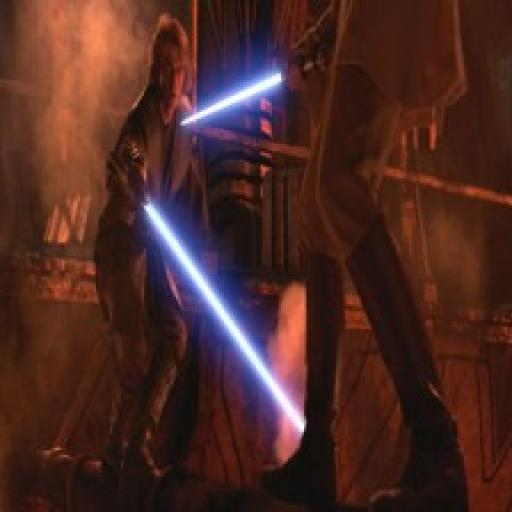human: (94, 19, 214, 478)
lightsaber: (126, 171, 313, 441), (177, 48, 328, 128)
